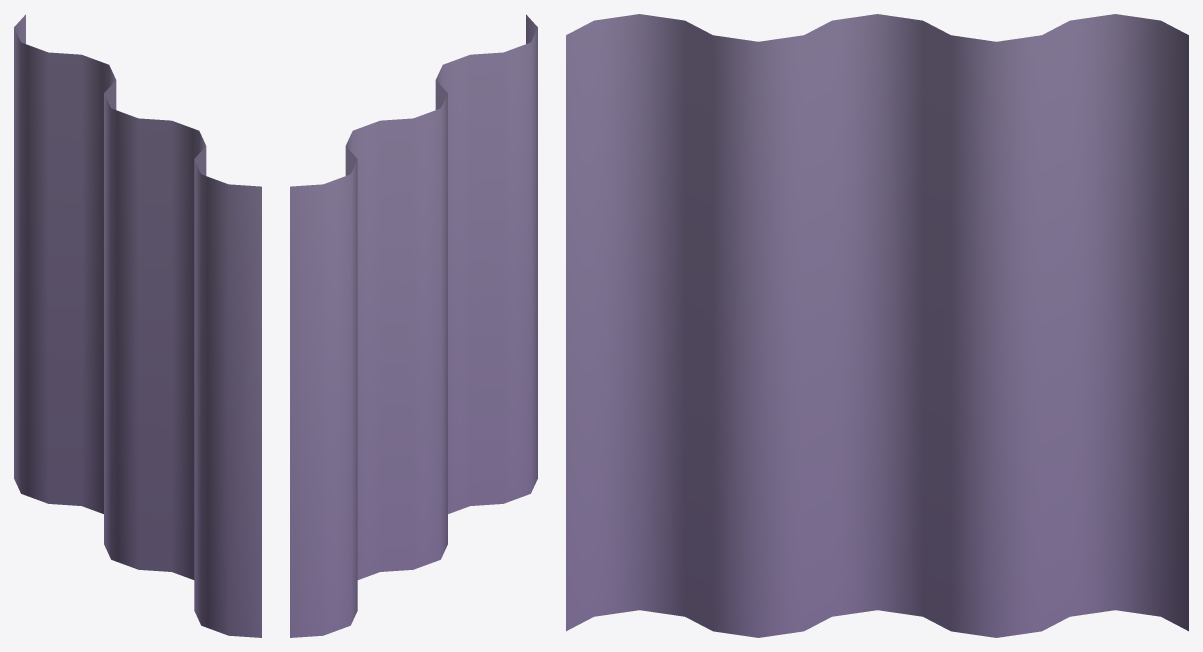
The model's file is (%no-merge) (%drape) 2.glb.
The picture shows the model from 3 angles, left to right: view 1: azimuth 30°, elevation 25°; view 2: azimuth 150°, elevation 25°; view 3: azimuth 270°, elevation 25°; orthographic projection. The views are drawn at different scales.
Visible parts, largest first — view 1: (%no-merge) (%drape) 2(Clone); view 2: (%no-merge) (%drape) 2(Clone); view 3: (%no-merge) (%drape) 2(Clone).
Part boxes in pixels (left/top/right/bottom): (%no-merge) (%drape) 2(Clone): left=14, top=14, right=261, bottom=637; (%no-merge) (%drape) 2(Clone): left=290, top=14, right=537, bottom=637; (%no-merge) (%drape) 2(Clone): left=566, top=14, right=1188, bottom=637.
Size of the model in its own units: 0.1 by 1 by 0.9467.
